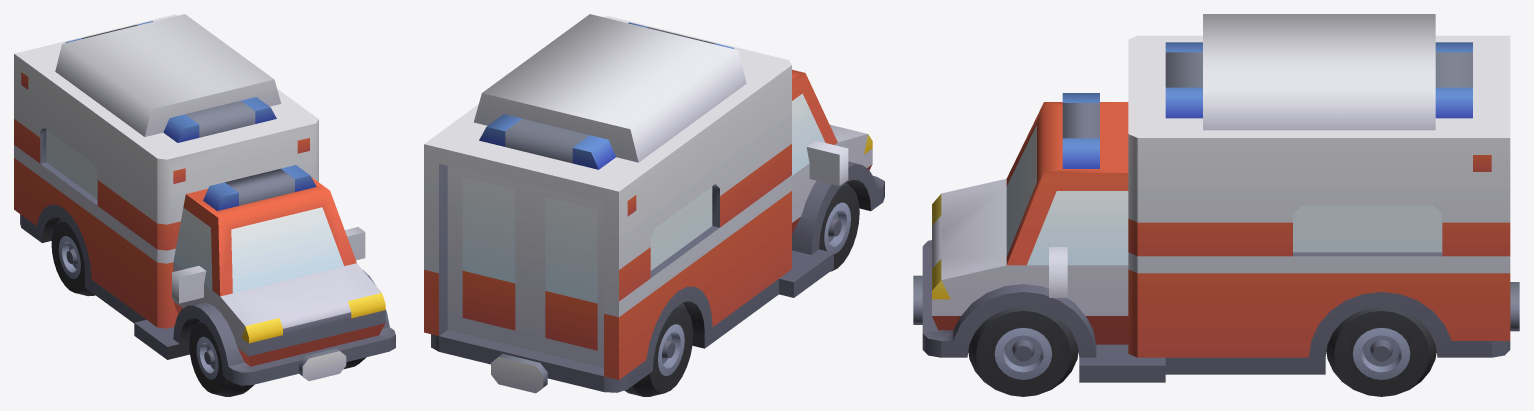
The model's file is ambulans.glb.
The picture shows the model from 3 angles, left to right: view 1: azimuth 30°, elevation 25°; view 2: azimuth 150°, elevation 25°; view 3: azimuth 270°, elevation 25°; orthographic projection. The views are drawn at different scales.
Visible parts, largest first — view 1: body, wheel-front-right, wheel-back-right; view 2: body, door-left, door-right, wheel-back-right, wheel-front-right; view 3: body, wheel-back-left, wheel-front-left.
Part boxes in pixels (bbox=[...]): body: bbox=[14, 14, 395, 385]; wheel-front-right: bbox=[189, 320, 254, 396]; wheel-back-right: bbox=[51, 219, 95, 296]; body: bbox=[424, 14, 884, 393]; door-left: bbox=[447, 165, 530, 349]; door-right: bbox=[530, 186, 603, 367]; wheel-back-right: bbox=[624, 304, 693, 396]; wheel-front-right: bbox=[819, 183, 859, 271]; body: bbox=[913, 14, 1519, 382]; wheel-back-left: bbox=[1326, 307, 1436, 396]; wheel-front-left: bbox=[968, 307, 1078, 396].
Size of the model in its own units: 1.5 by 1.8 by 3.25.
1 material, 1 textured.
